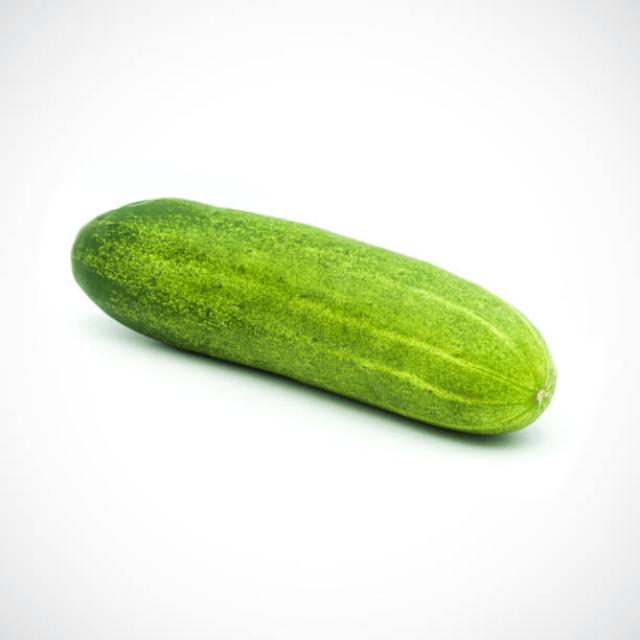cucumber: (68, 198, 557, 434)
